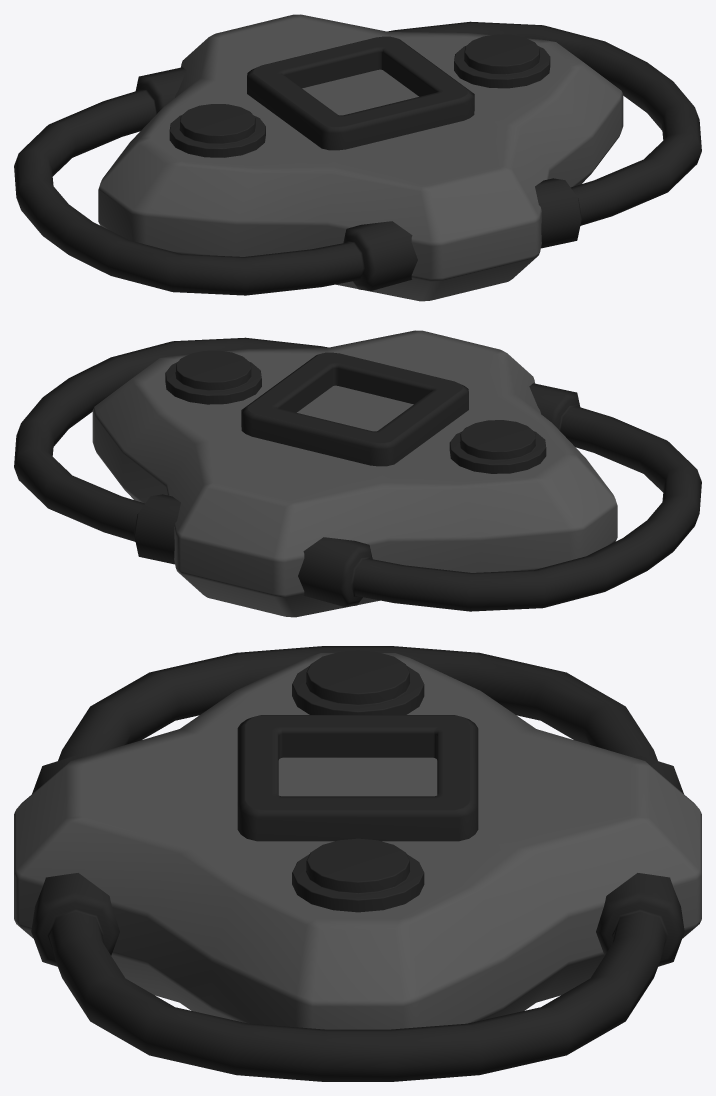
File: _Bonus_object_01.fbx
3 renders of one model, top to bottom at view 1: azimuth 30°, elevation 25°; view 2: azimuth 150°, elevation 25°; view 3: azimuth 270°, elevation 25°, orthographic. The views are drawn at different scales.
Visible parts, largest first — view 1: Bonus_object_01; view 2: Bonus_object_01; view 3: Bonus_object_01.
Boxes of the visible parts, x1,y1,x2,y2 form: Bonus_object_01: (14,14,701,301); Bonus_object_01: (14,330,701,617); Bonus_object_01: (14,646,701,1081).
Bounding box in the file's own units: 118 × 27.38 × 84.84.
1 material, 1 textured.
